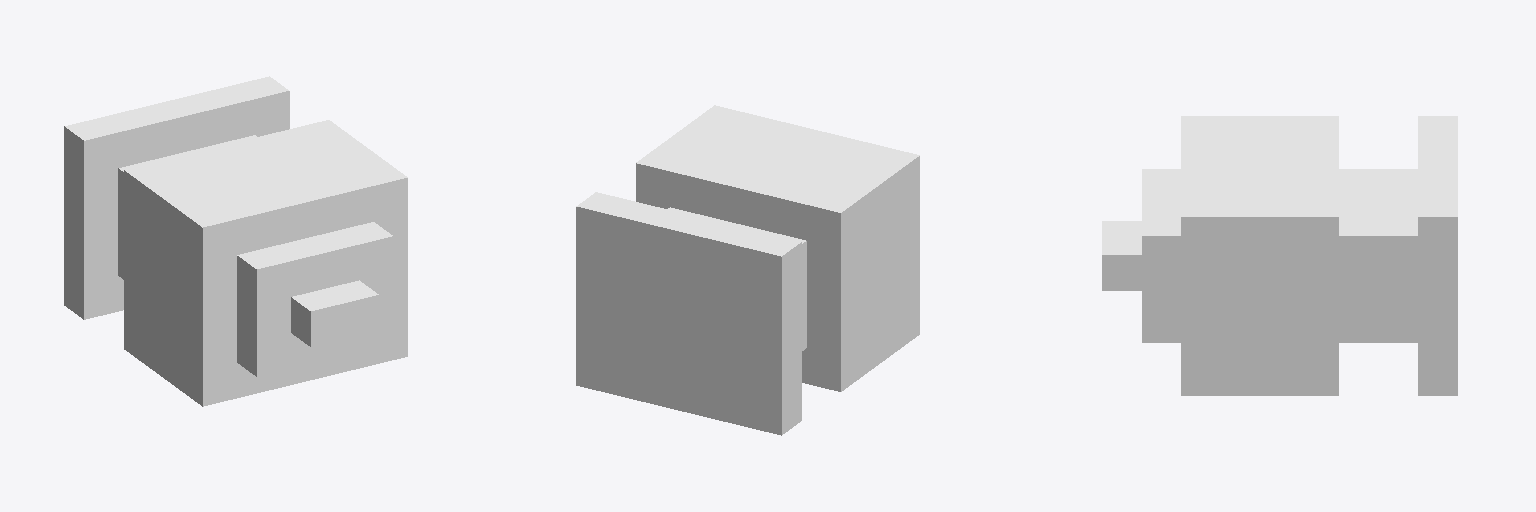
The model's file is forjer.obj.
3 renders of one model, left to right at view 1: azimuth 30°, elevation 25°; view 2: azimuth 150°, elevation 25°; view 3: azimuth 270°, elevation 25°, orthographic.
Parts seen in each view (by area): view 1: object 1; view 2: object 1; view 3: object 1.
Boxes of the visible parts, x1=… form: object 1: x1=64, y1=76, x2=407, y2=406; object 1: x1=576, y1=105, x2=919, y2=435; object 1: x1=1102, y1=116, x2=1457, y2=395.
Size of the model in its own units: 0.6 by 0.5 by 0.9.